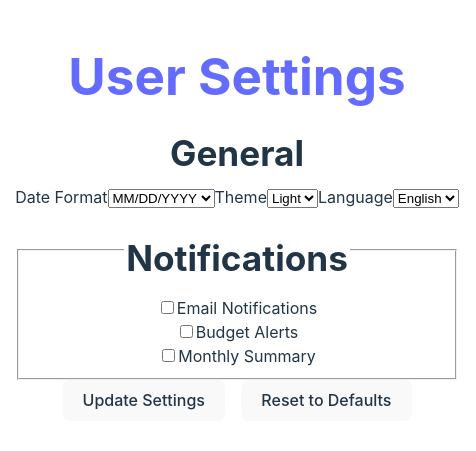
Test: UserSettings Component › Accessibility › should announce updates to screen readers after form submission
Step 1. Select "Dark" in the dropdown labelled "Theme" → (292, 199), box [267,189,318,208]
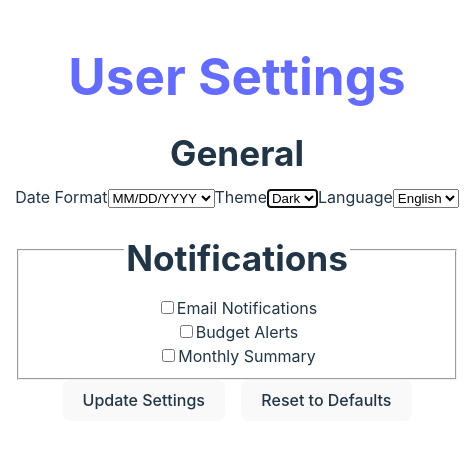
Step 2. Click the button "Update Settings" → (144, 400), box [62,380,225,421]
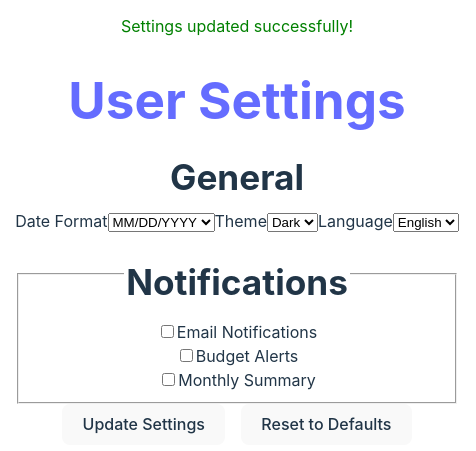
Check: the message shows "Settings updated successfully", box [121,16,353,36]
